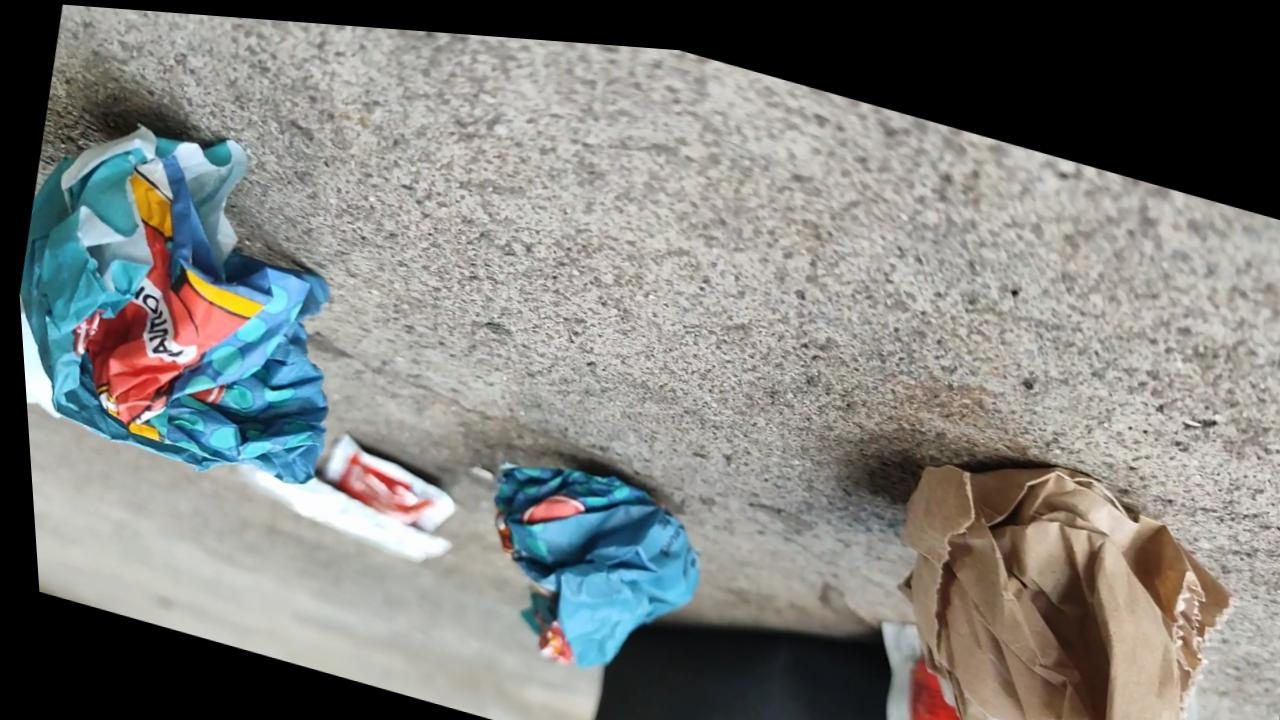paper: (5, 78, 387, 515), (837, 422, 1254, 720), (431, 415, 757, 720), (20, 304, 103, 464)
